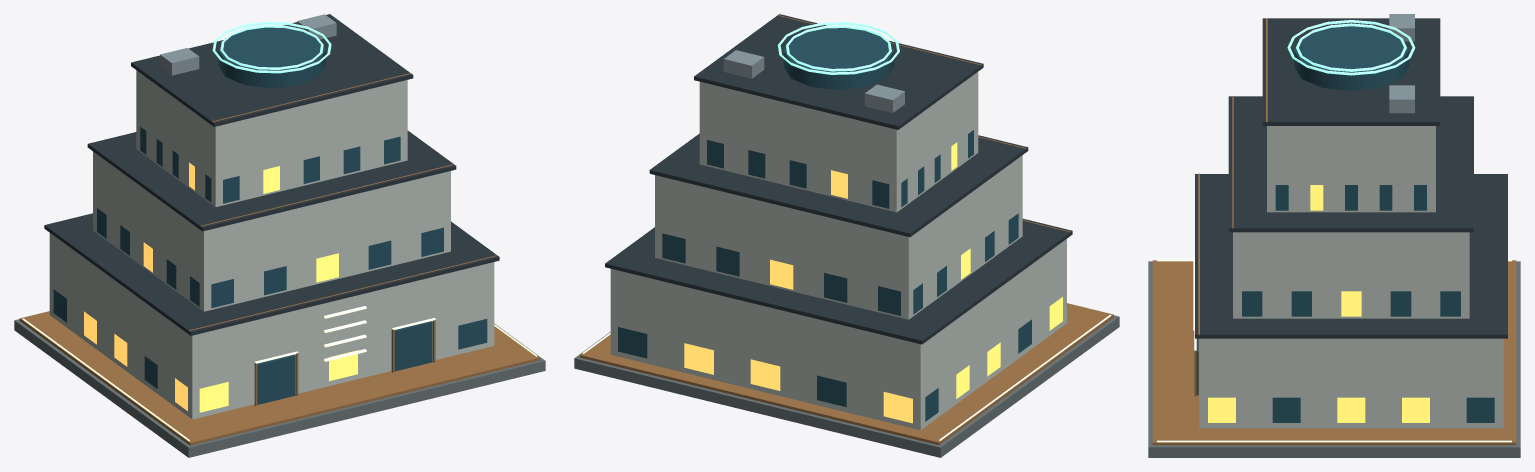
Rendered from memory-archive.lod2.glb.
3 views of the same model, side by side, from view 1: azimuth 30°, elevation 25°; view 2: azimuth 150°, elevation 25°; view 3: azimuth 270°, elevation 25° (orthographic). The views are drawn at different scales.
Parts seen in each view (by area): view 1: structure; view 2: structure; view 3: structure.
Boxes of the visible parts, x1,y1,x2,y2 form: structure: (14, 14, 545, 457); structure: (574, 14, 1119, 457); structure: (1148, 14, 1520, 457).
Size of the model in its own units: 26 by 20.79 by 22.
